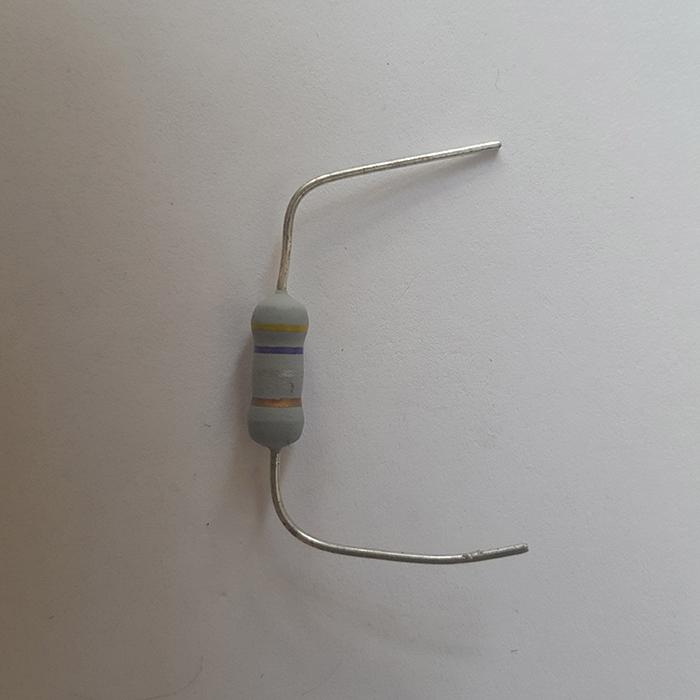resistor: (247, 288, 308, 451)
